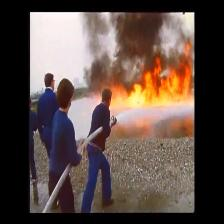fire: (108, 77, 190, 104)
smoke: (115, 13, 163, 59), (83, 14, 106, 85), (113, 61, 142, 74)
